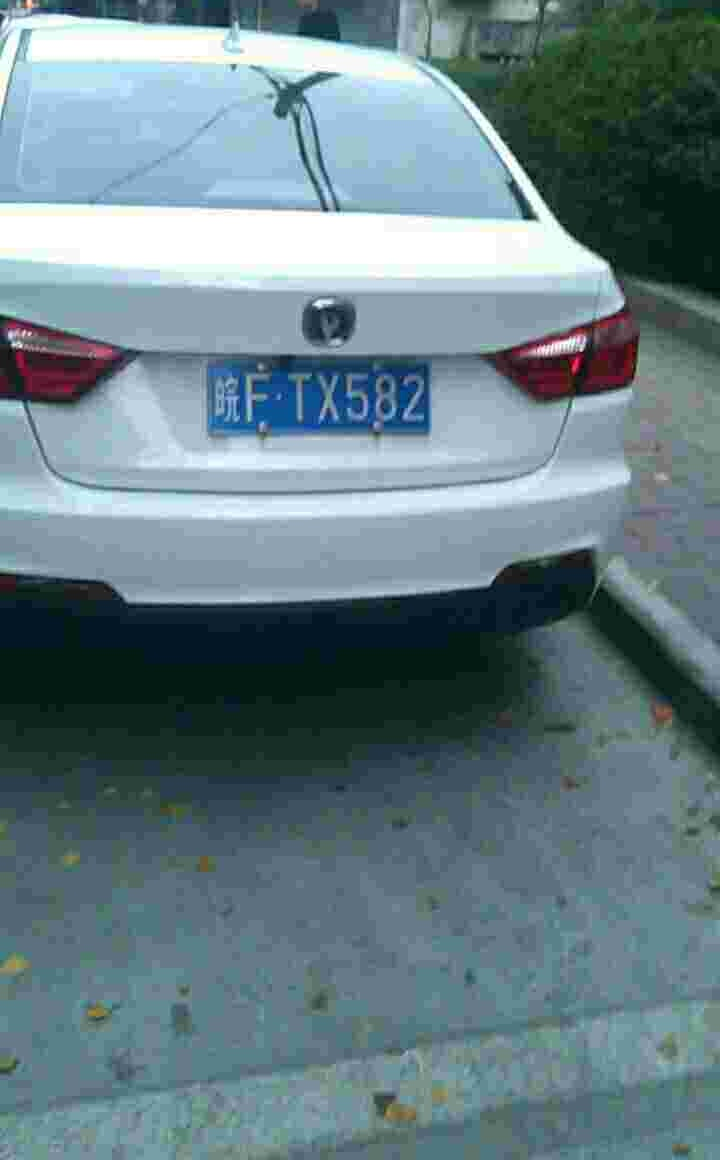plate: (212, 358, 439, 437)
